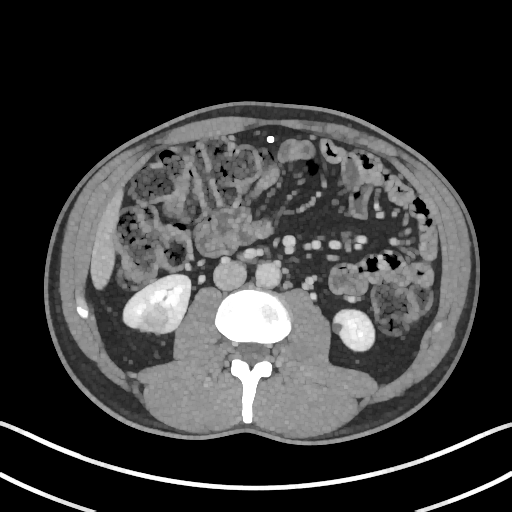Lesion: (141, 297, 171, 332)
